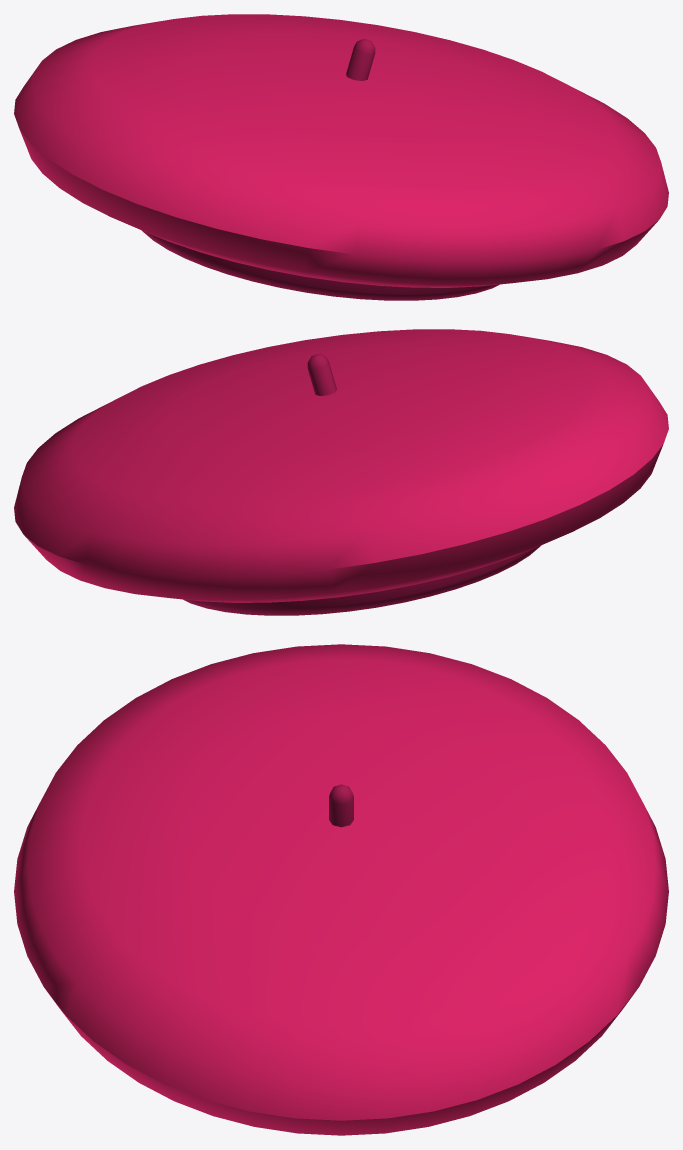
File: beret.glb
The picture shows the model from 3 angles, top to bottom: view 1: azimuth 30°, elevation 25°; view 2: azimuth 150°, elevation 25°; view 3: azimuth 270°, elevation 25°; orthographic projection. The views are drawn at different scales.
Visible parts, largest first — view 1: beret; view 2: beret; view 3: beret.
Boxes of the visible parts, x1,y1,x2,y2 form: beret: [14, 14, 668, 300]; beret: [14, 329, 668, 615]; beret: [14, 644, 668, 1135].
Bounding box in the file's own units: 0.714 × 0.263 × 0.6278.
